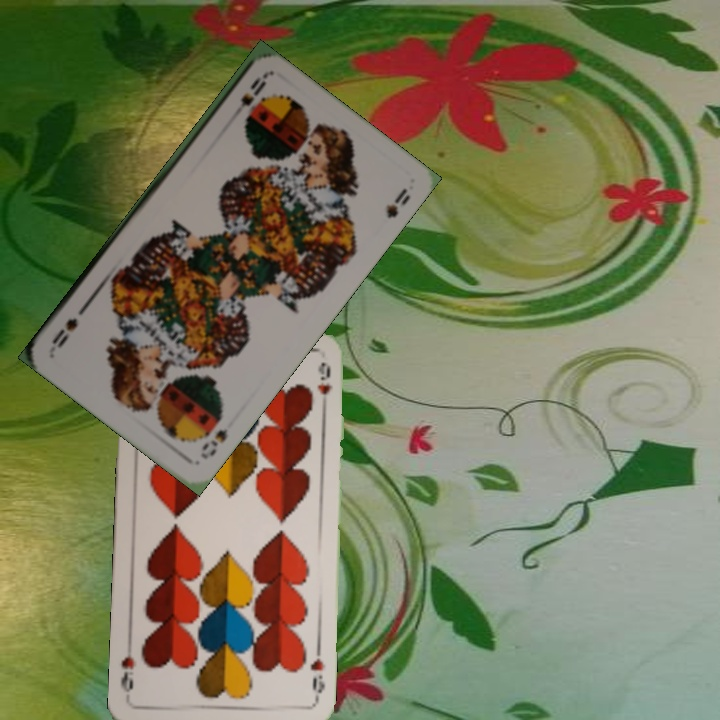H9: (307, 655, 327, 704)
SO: (226, 72, 269, 124), (196, 424, 231, 462)
